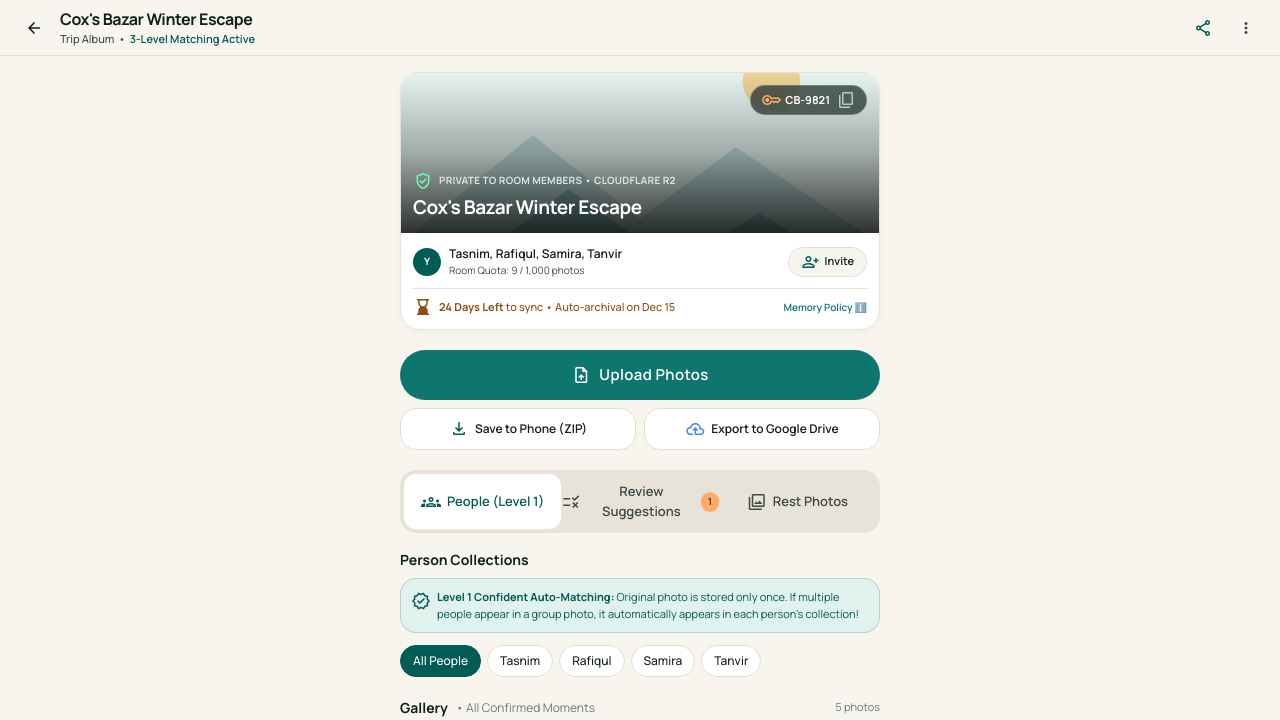
it: Three-Level Photo Matching & Grouping System › Level 2: Rejection does not auto-assign to another candidate and allows Undo
# Switch to suggestions
What coordinates should you click on to do the following:
click the text "Review Suggestions"
I would click on:
 (641, 501)
Its box is [602,482,681,520].
(page scrolled)
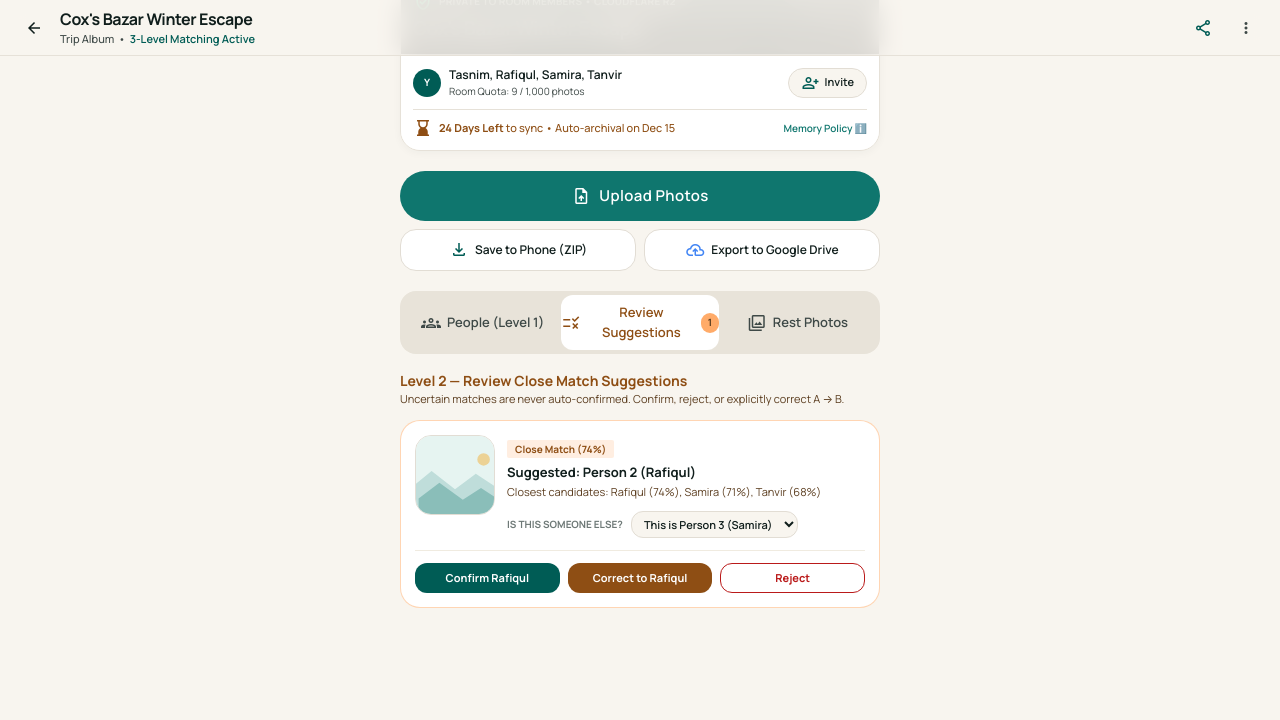
# Reject suggestion
What coordinates should you click on to do the following:
click the button "Reject"
I would click on:
 (793, 578)
Its box is [720,562,865,593].
(page scrolled)
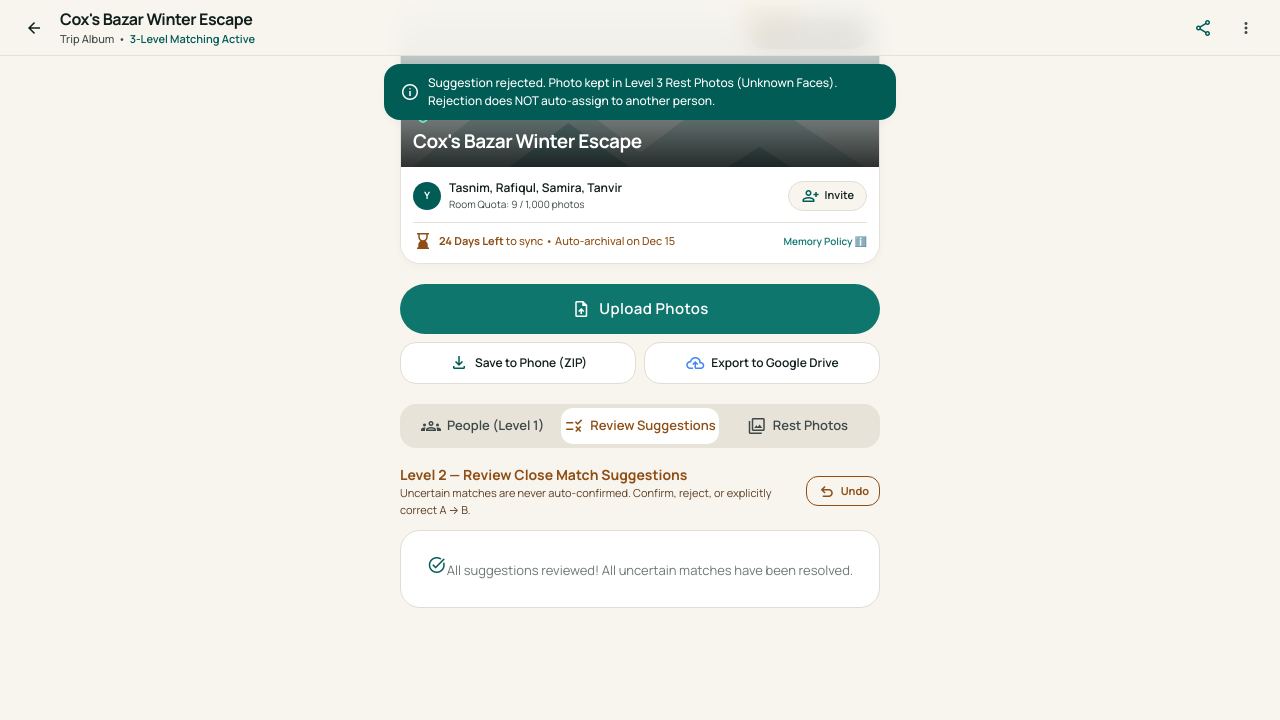
Result: the text "Suggestion rejected. Photo kept in Level 3 Rest Photos" is shown at [428,74,837,109]
# Click Undo to rollback
What coordinates should you click on to do the following:
click the button "Undo"
I would click on:
 (843, 491)
Its box is [806,476,880,506].
(page scrolled)
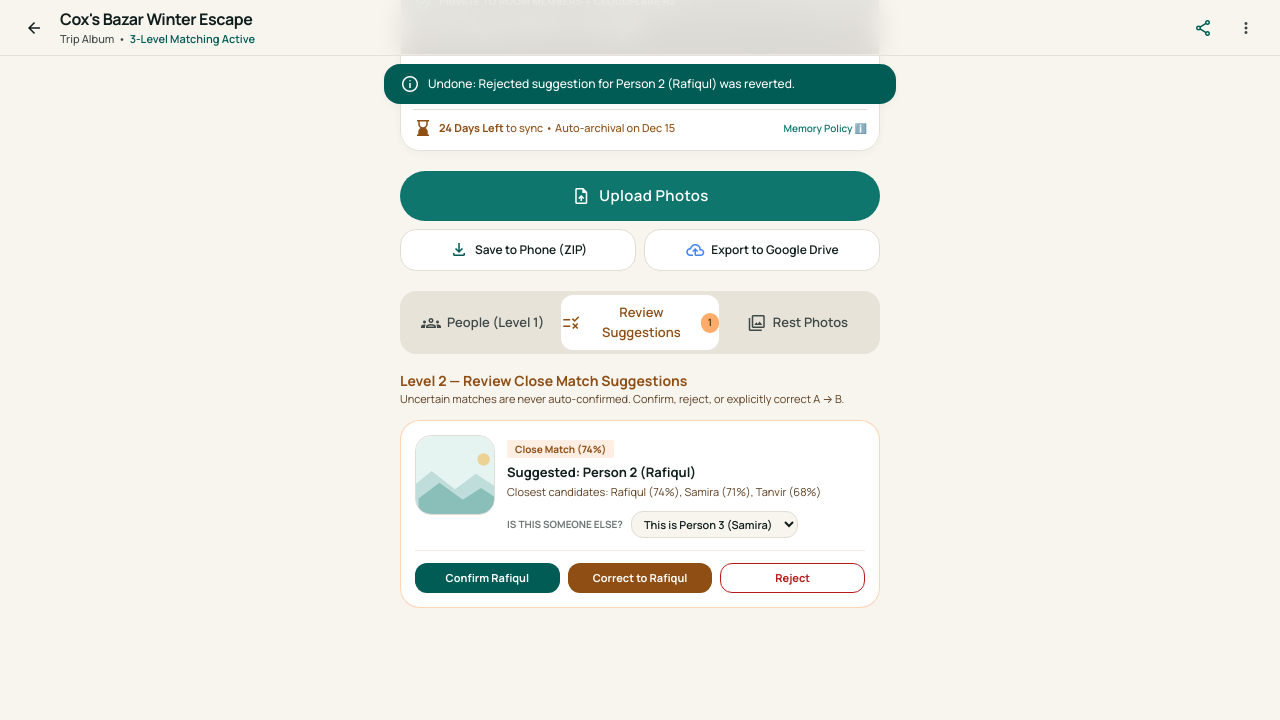
Result: the text "Undone:" is shown at [428,75,795,92]
Result: the heading "Suggested: Person 2 (Rafiqul)" is shown at [507,462,696,480]
